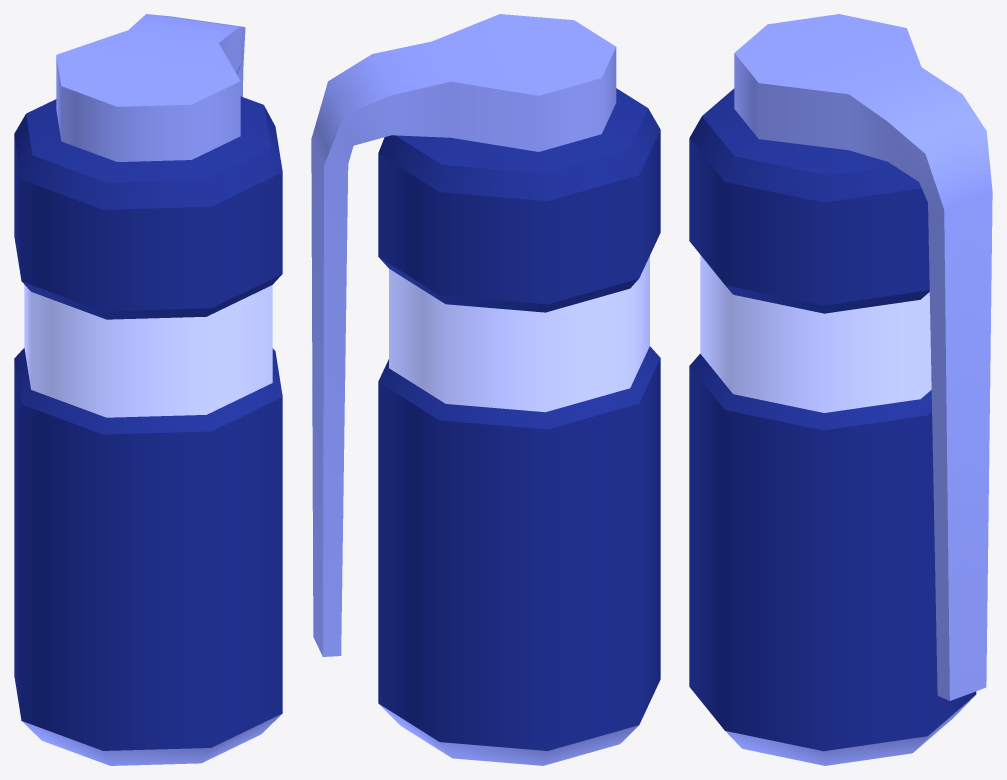
The model's file is Granate_Blue.glb.
3 renders of one model, left to right at view 1: azimuth 30°, elevation 25°; view 2: azimuth 150°, elevation 25°; view 3: azimuth 270°, elevation 25°, orthographic.
Visible parts, largest first — view 1: Granate_Blue_3.001; view 2: Granate_Blue_3.001; view 3: Granate_Blue_3.001.
Part boxes in pixels (x1,y1,x2,y2): Granate_Blue_3.001: (14,14,282,765); Granate_Blue_3.001: (311,14,660,765); Granate_Blue_3.001: (689,14,992,765).
Size of the model in its own units: 0.2738 by 0.625 by 0.2604.
Materials: 1 (1 with a texture image).
